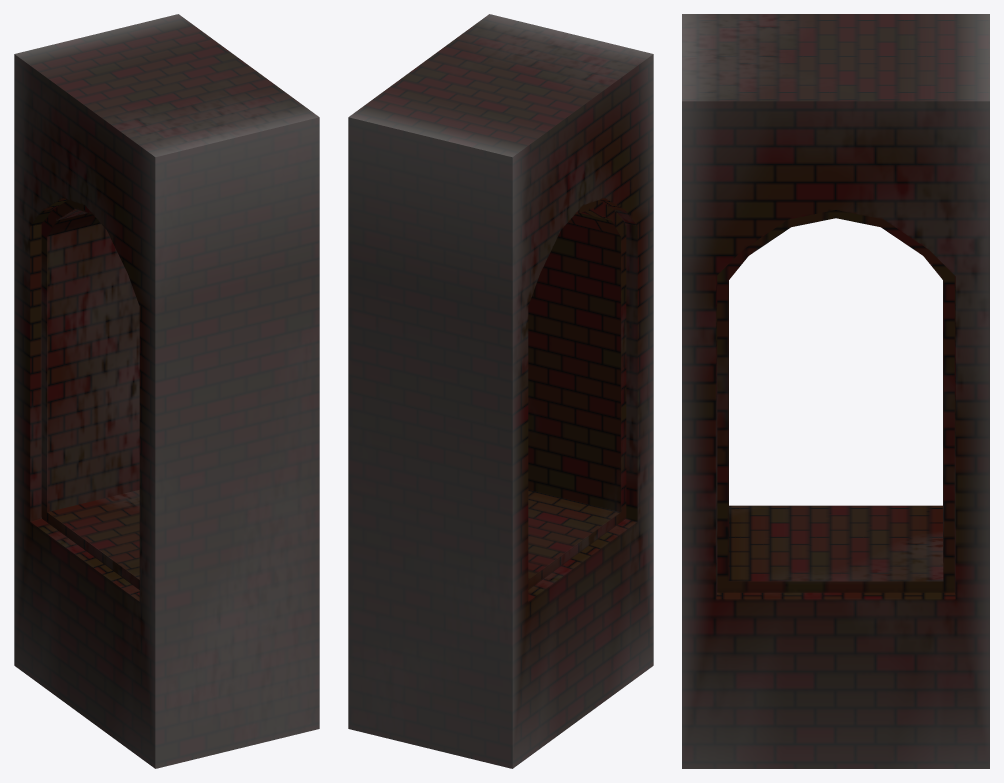
File: CastleDoorEntrance.fbx
The picture shows the model from 3 angles, left to right: view 1: azimuth 30°, elevation 25°; view 2: azimuth 150°, elevation 25°; view 3: azimuth 270°, elevation 25°; orthographic projection. The views are drawn at different scales.
Parts seen in each view (by area): view 1: Cube.001; view 2: Cube.001; view 3: Cube.001.
Part boxes in pixels (x1=…): Cube.001: x1=14, y1=14, x2=319, y2=768; Cube.001: x1=348, y1=14, x2=653, y2=768; Cube.001: x1=682, y1=14, x2=989, y2=768.
Size of the model in its own units: 293 by 1045 by 437.
1 material, 1 textured.
